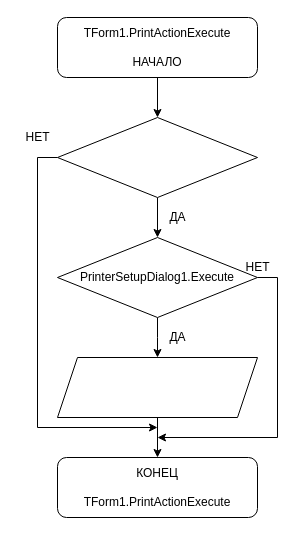
Image size: 303x535. Some labels were removed from this diagram. The centre of each missing label's shape, as x and y in pixels:
"CloseCurrentDocument" goes at pixel 157 157.
"PrintDialog1.Execute;" goes at pixel 157 387.
